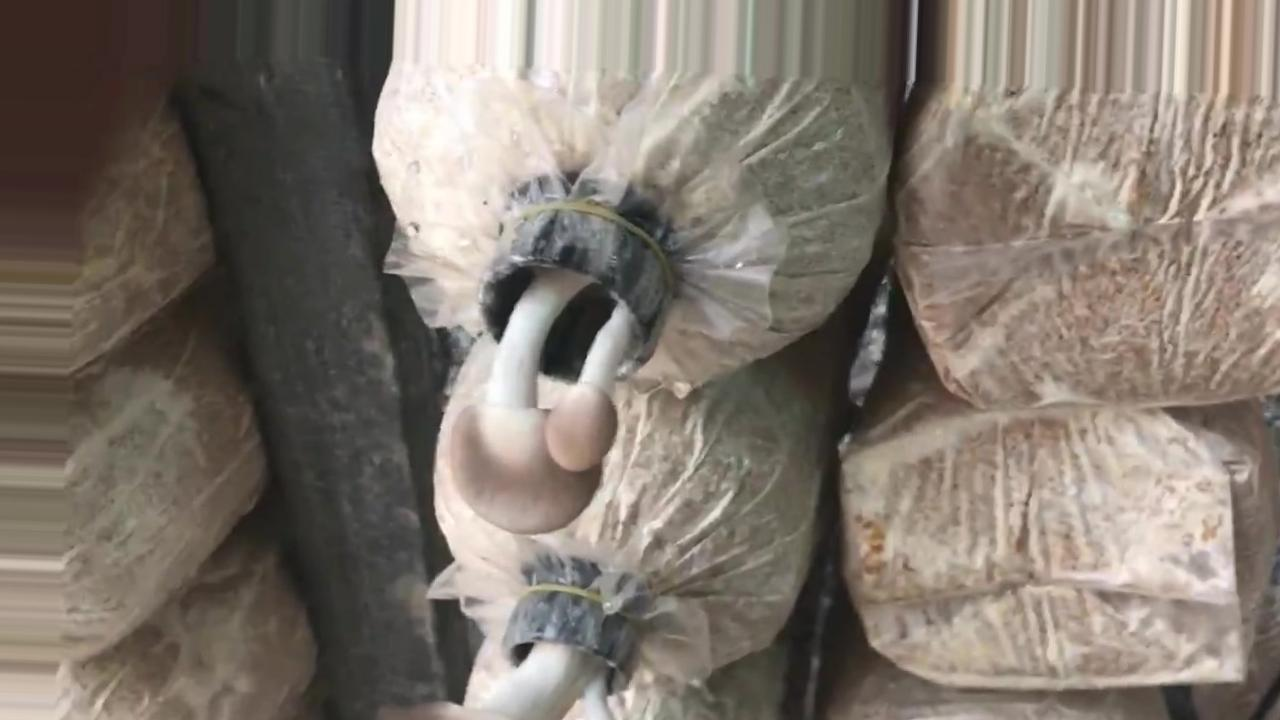nam: (449, 203, 664, 534), (388, 584, 641, 720)
